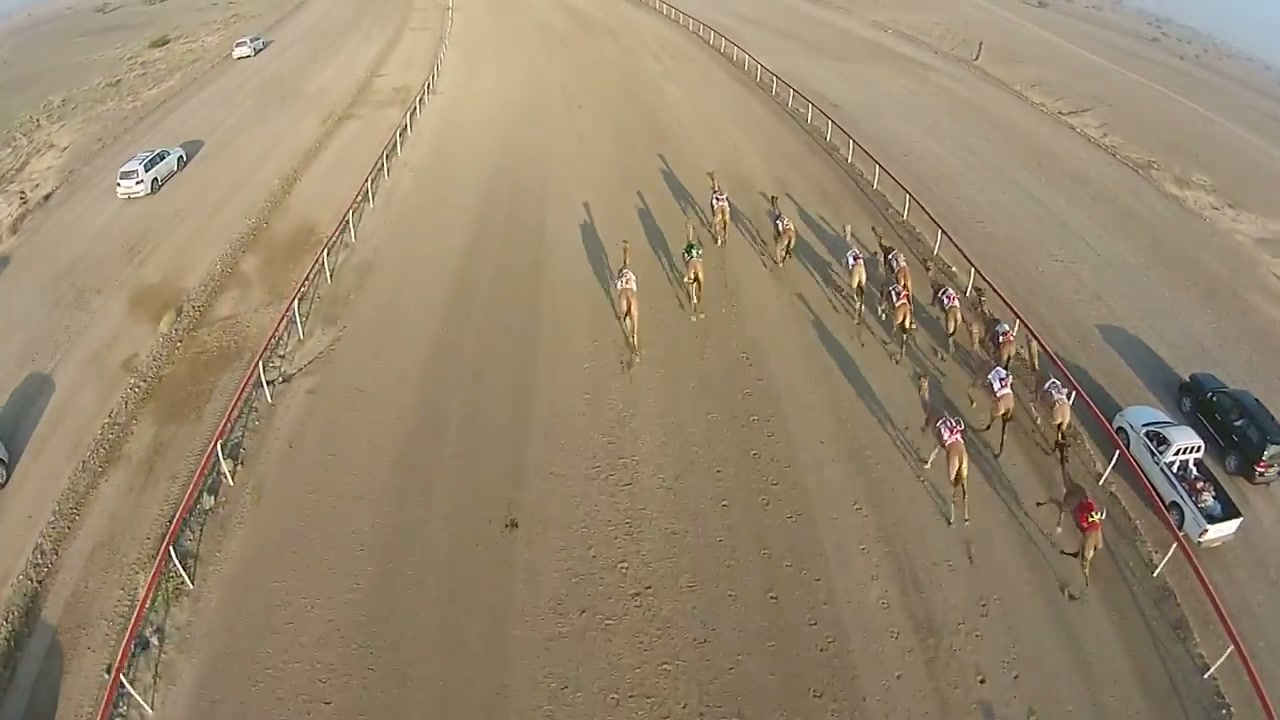animal_foot_print: (529, 358, 1040, 719)
